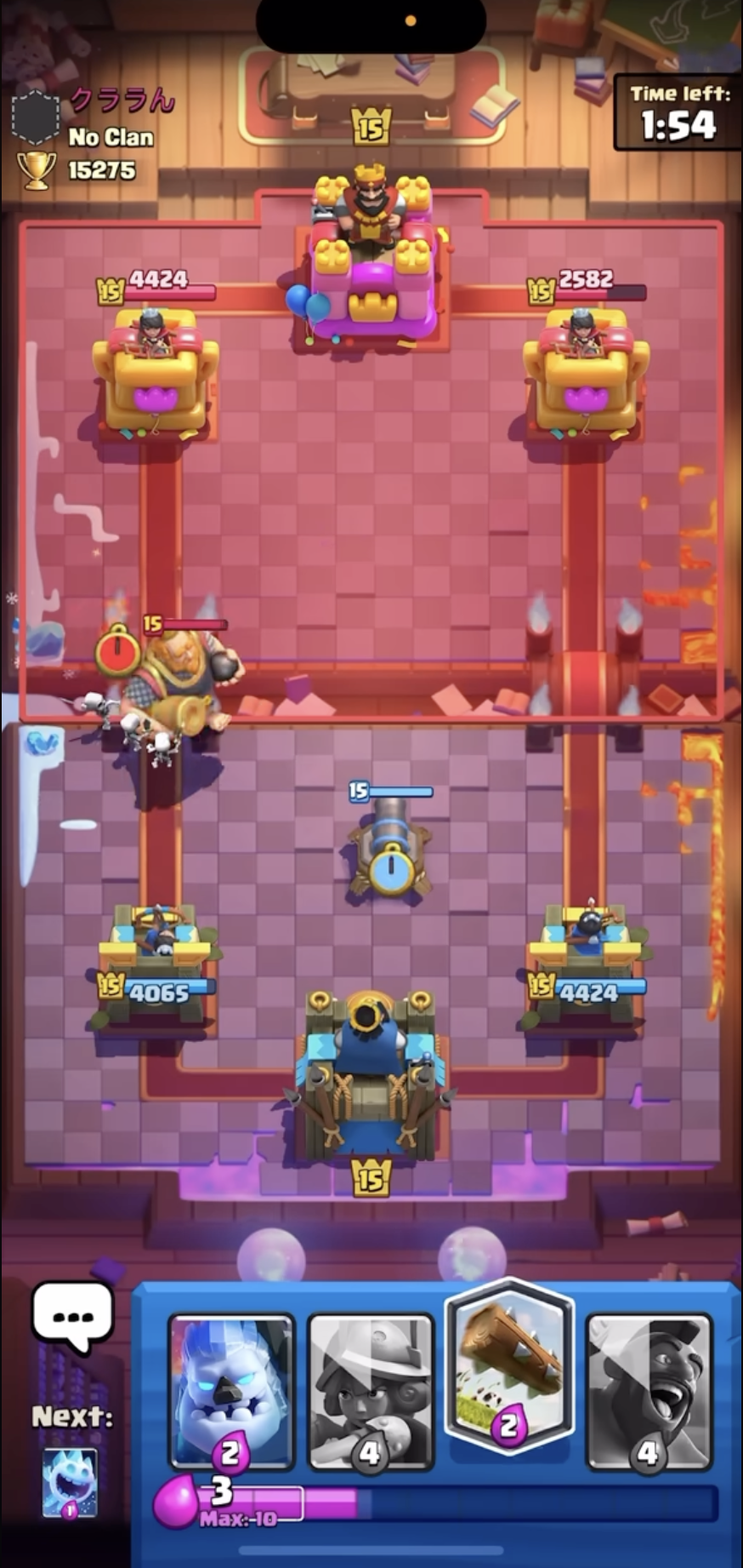cannon: (344, 772, 438, 897)
skeletons: (110, 708, 151, 752), (73, 680, 112, 726), (145, 726, 178, 766)
